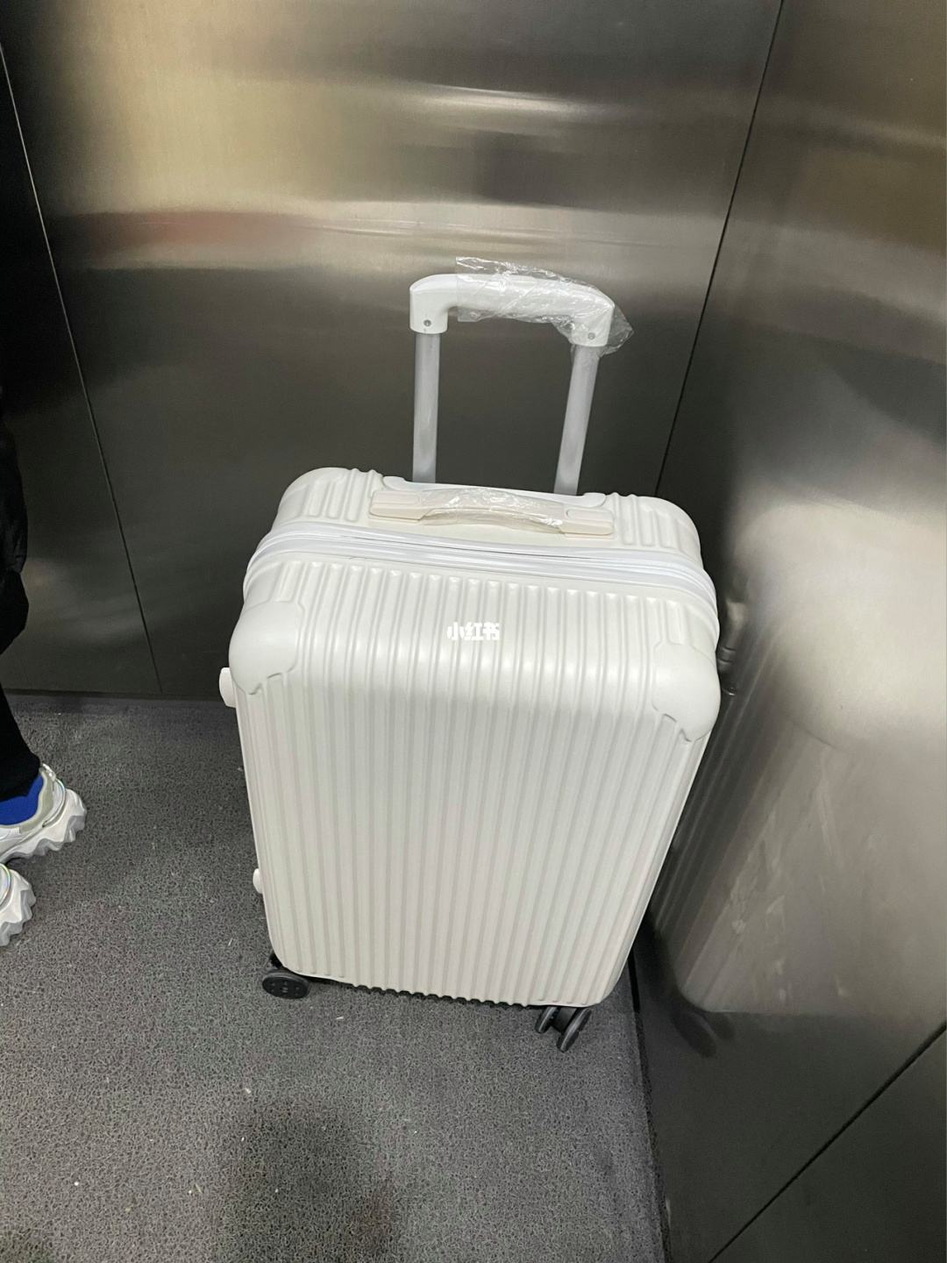box: (227, 465, 722, 1011)
handle: (367, 487, 616, 538)
wheel: (534, 1003, 592, 1052), (261, 948, 310, 1000)
